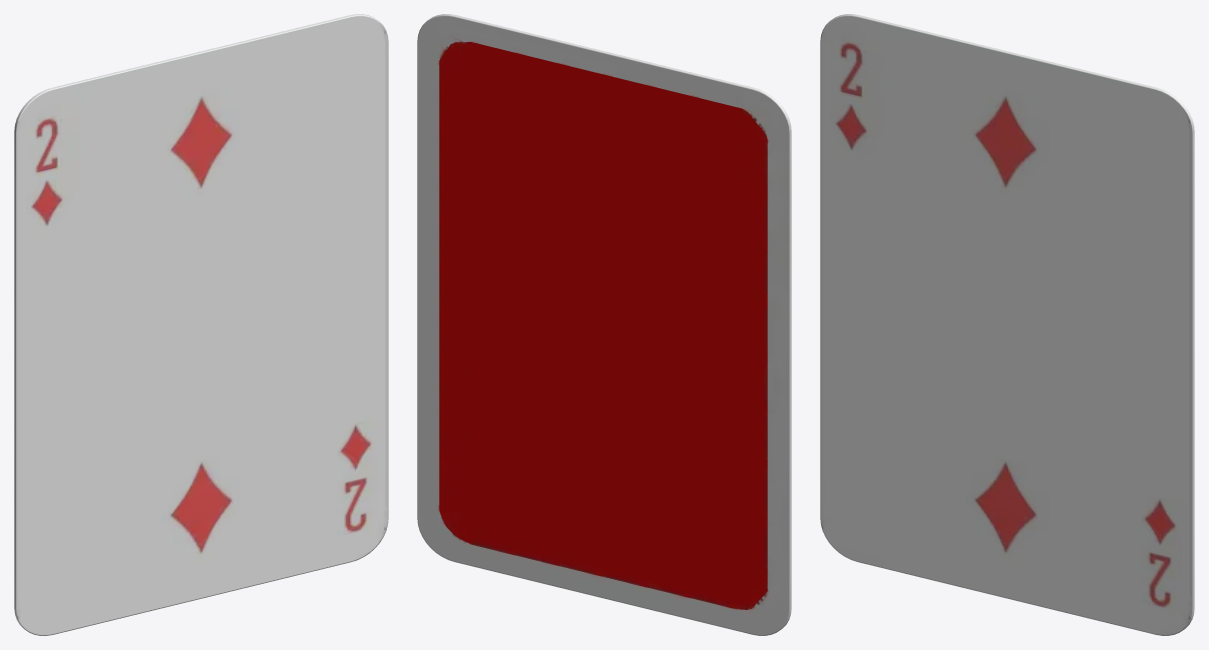
Rendered from diamonds_2-transformed.glb.
3 views of the same model, side by side, from view 1: azimuth 30°, elevation 25°; view 2: azimuth 150°, elevation 25°; view 3: azimuth 330°, elevation 25° (orthographic).
Visible parts, largest first — view 1: defaultMaterial.034; view 2: defaultMaterial.034; view 3: defaultMaterial.034.
Part boxes in pixels (x1,y1,x2,y2): defaultMaterial.034: (14,14,388,635); defaultMaterial.034: (417,14,791,635); defaultMaterial.034: (820,14,1194,635).
Size of the model in its own units: 0.1408 by 0.1972 by 0.00111.
1 material, 1 textured.
